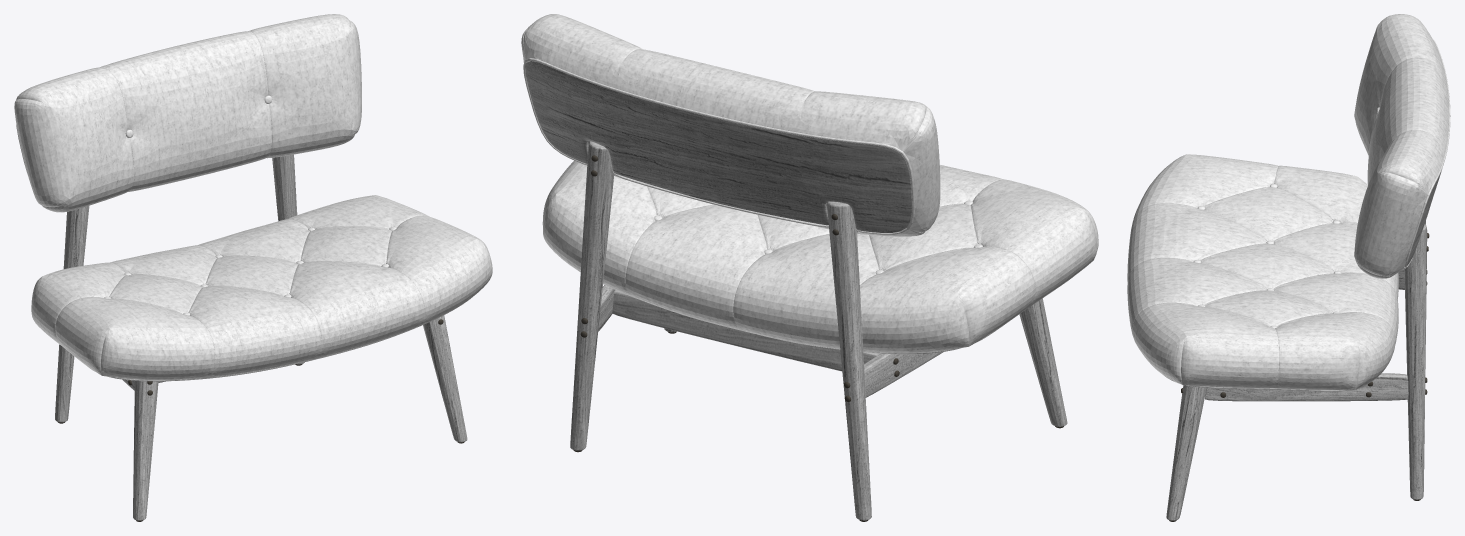
File: SheenChair.obj
3 renders of one model, left to right at view 1: azimuth 30°, elevation 25°; view 2: azimuth 150°, elevation 25°; view 3: azimuth 270°, elevation 25°, orthographic. The views are drawn at different scales.
Parts seen in each view (by area): view 1: SheenChair_fabric, SheenChair_wood; view 2: SheenChair_fabric, SheenChair_wood; view 3: SheenChair_fabric, SheenChair_wood.
Part boxes in pixels (box(x1,y1,x2,y2)): SheenChair_fabric: box(14, 14, 492, 381); SheenChair_wood: box(55, 154, 467, 520); SheenChair_fabric: box(521, 14, 1098, 354); SheenChair_wood: box(525, 61, 1067, 520); SheenChair_fabric: box(1127, 14, 1450, 391); SheenChair_wood: box(1166, 170, 1441, 520).
Bounding box in the file's own units: 0.8266 × 0.6862 × 0.5703.
Materials: 4 (3 with a texture image).
